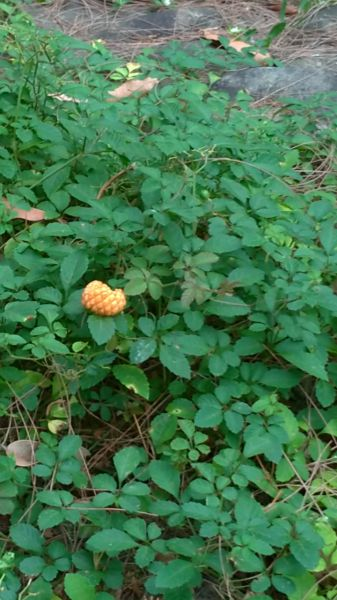eggs: (79, 280, 129, 319)
